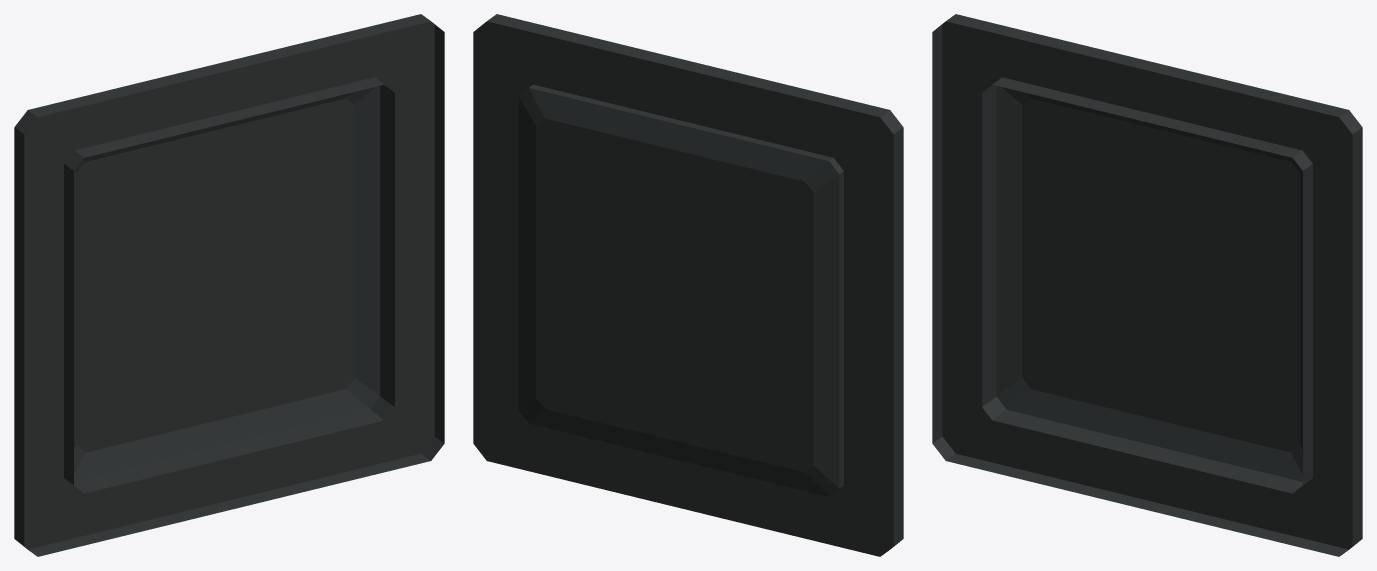
Rendered from Button Platform 01.FBX.
3 views of the same model, side by side, from view 1: azimuth 30°, elevation 25°; view 2: azimuth 150°, elevation 25°; view 3: azimuth 330°, elevation 25° (orthographic).
Visible parts, largest first — view 1: Button 01, Button Platform 01; view 2: Button 01, Button Platform 01; view 3: Button 01, Button Platform 01.
Boxes of the visible parts, <box> form: Button 01: <box>74,85,384,485</box>; Button Platform 01: <box>14,14,444,556</box>; Button 01: <box>518,84,843,496</box>; Button Platform 01: <box>473,14,903,556</box>; Button 01: <box>992,85,1302,485</box>; Button Platform 01: <box>932,14,1362,556</box>.
Bounding box in the file's own units: 93.66 × 93.66 × 7.18.
Materials: 1 (1 with a texture image).
